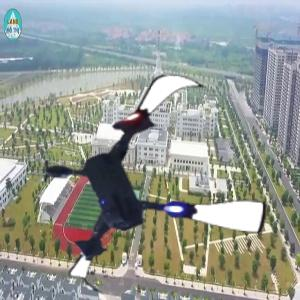drone: (30, 59, 272, 300)
